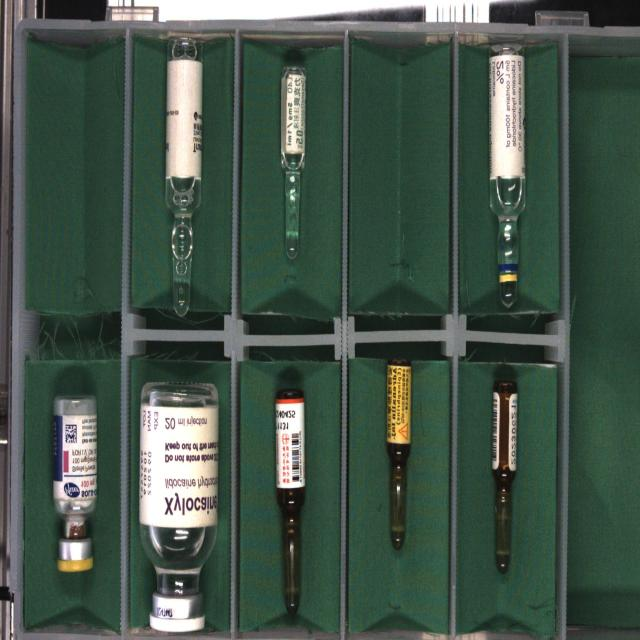Vials: (140, 382, 219, 632), (53, 395, 97, 572)
